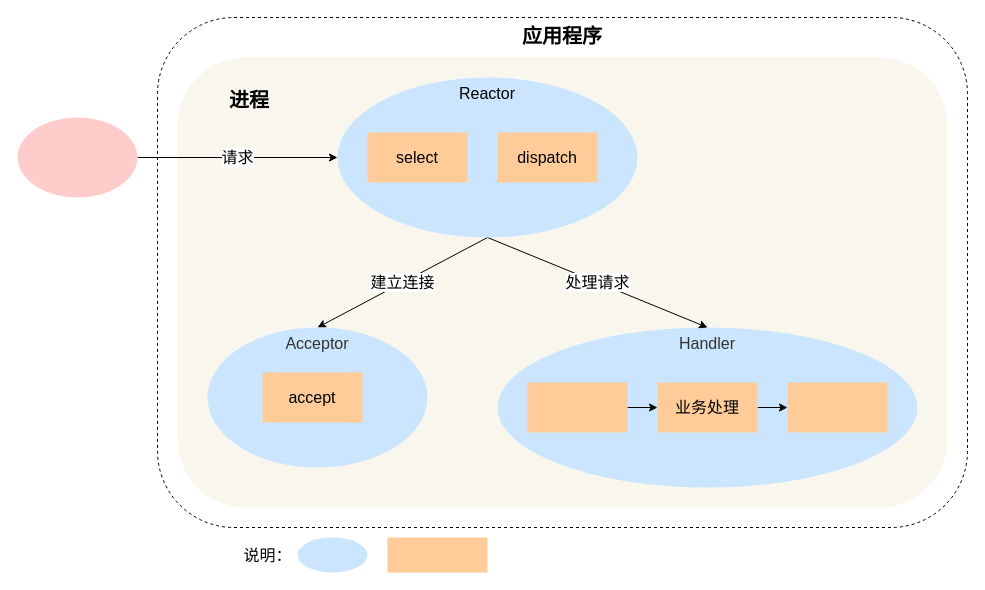
This 985x590 diagram has some shape labels left out. Each missing label, with the centre of its shape:
"API 或 操作" belongs at (437,554).
"Client" belongs at (77,157).
"read" belongs at (577,407).
"send" belongs at (837,407).
"对象" belongs at (332,554).
